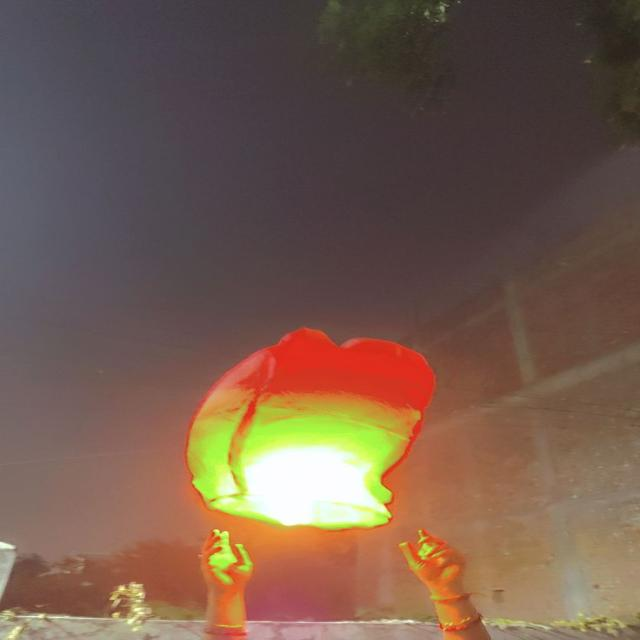fire: (244, 444, 374, 524)
